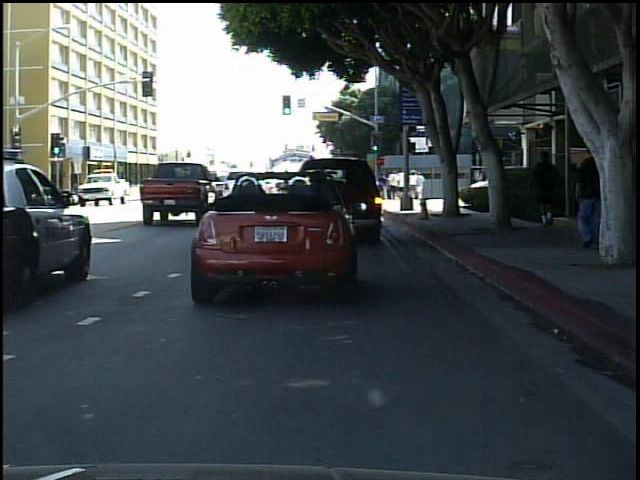person: (570, 139, 612, 258), (528, 146, 565, 236), (143, 173, 161, 200)
